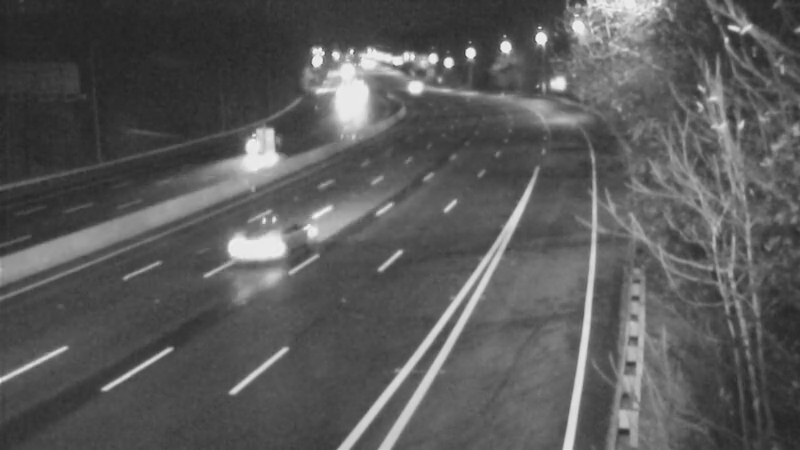vehicle: (211, 201, 291, 281), (385, 60, 435, 110), (232, 122, 282, 172), (320, 88, 370, 138)
